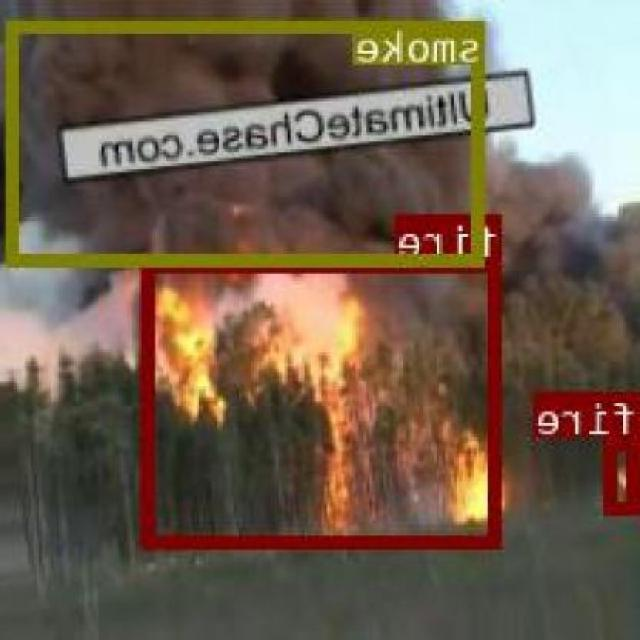fire: (145, 258, 504, 546), (606, 436, 640, 512)
smoke: (10, 17, 488, 265)
